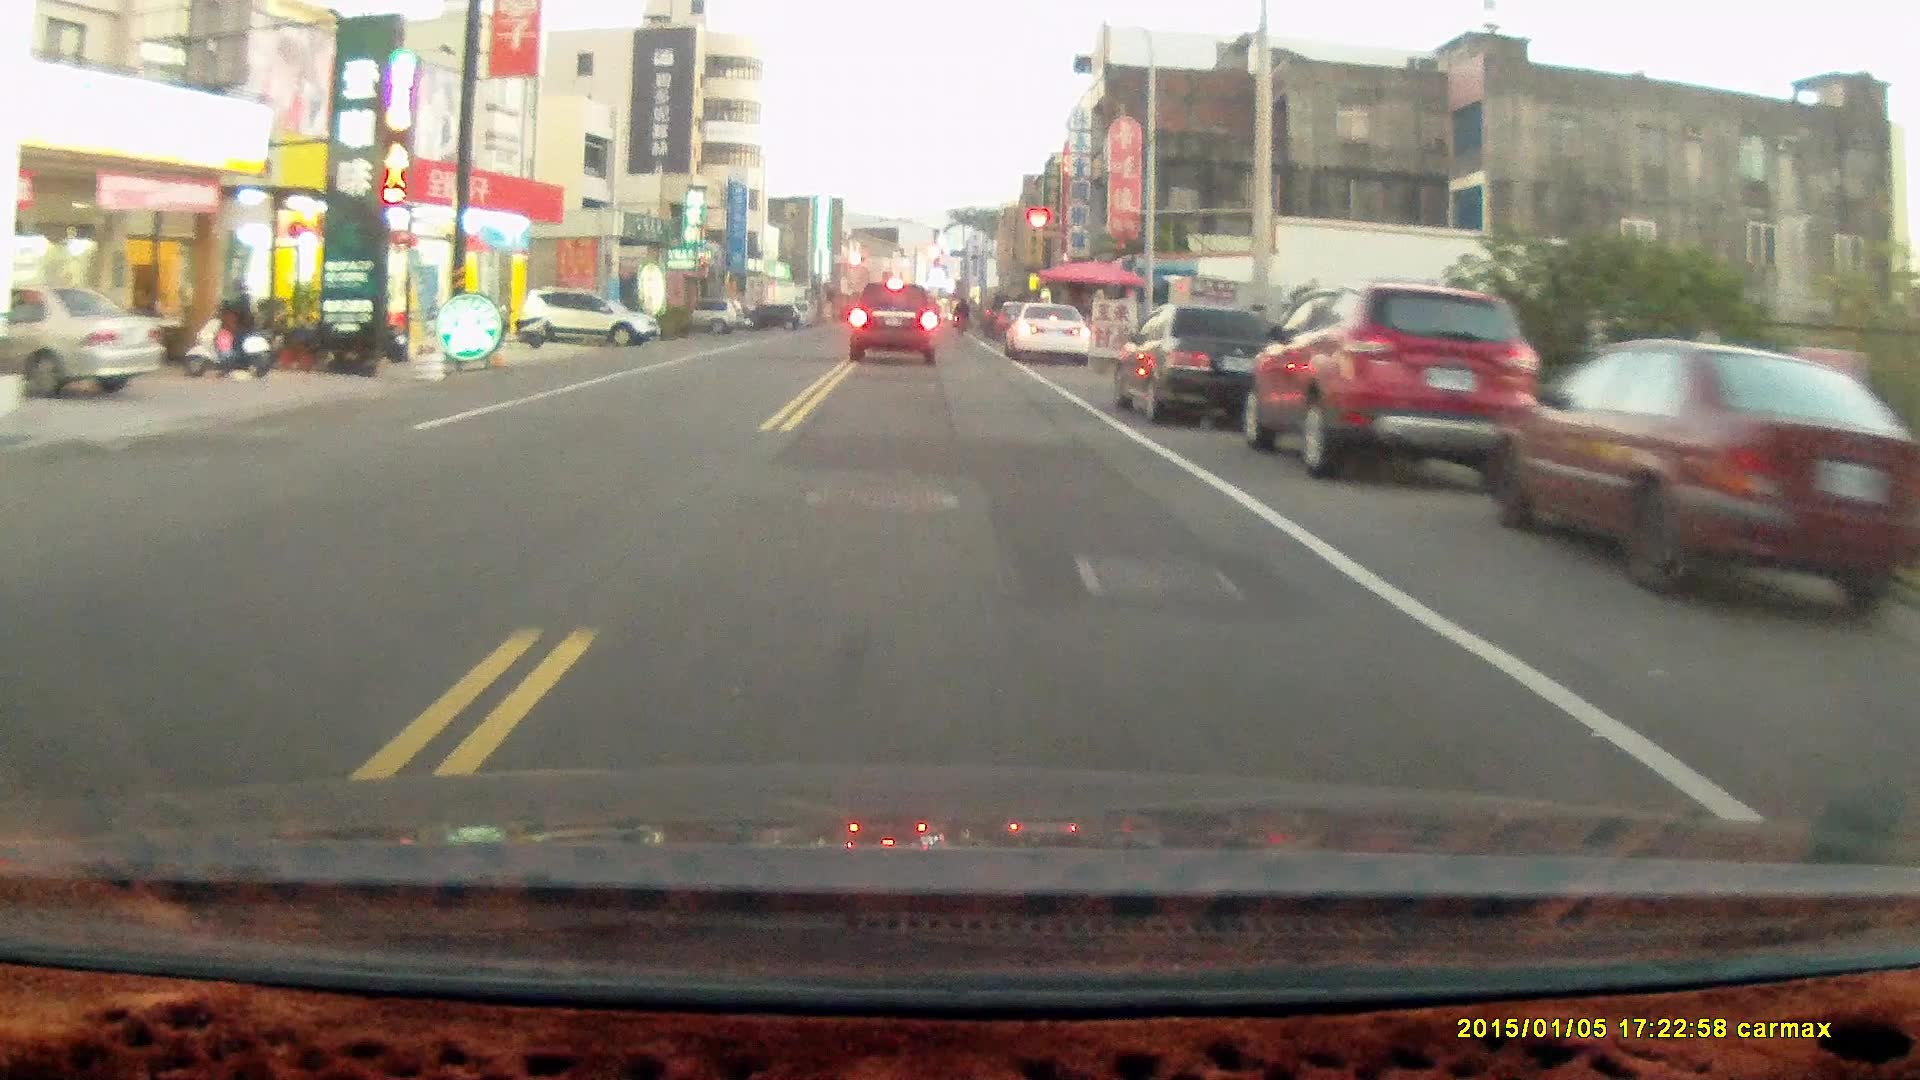vehicle: (1486, 338, 1902, 618), (1247, 280, 1552, 477), (1116, 301, 1286, 430), (1, 287, 167, 400), (520, 284, 665, 351), (848, 281, 938, 365), (1006, 301, 1092, 367)
